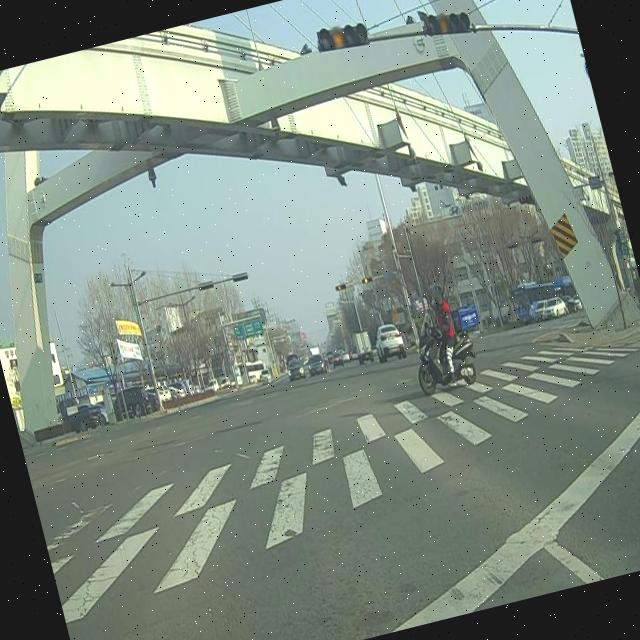crosswalk: (43, 340, 640, 625)
